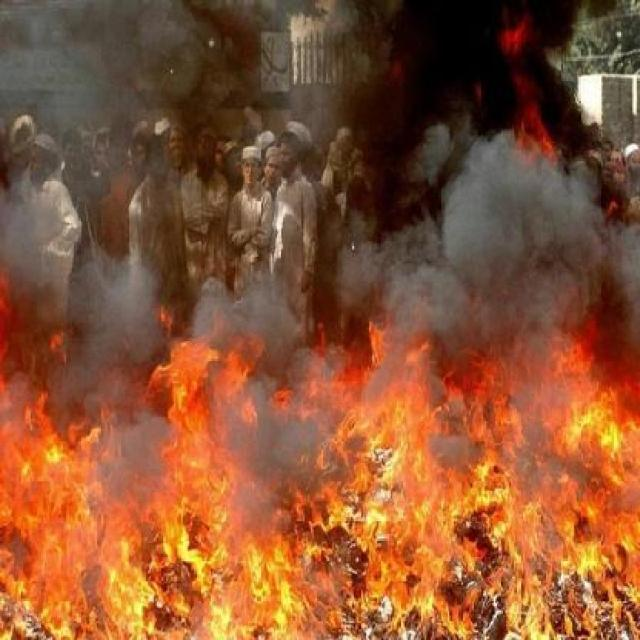Fire: (0, 318, 640, 640), (501, 29, 554, 157)
Smoke: (359, 130, 640, 367)
